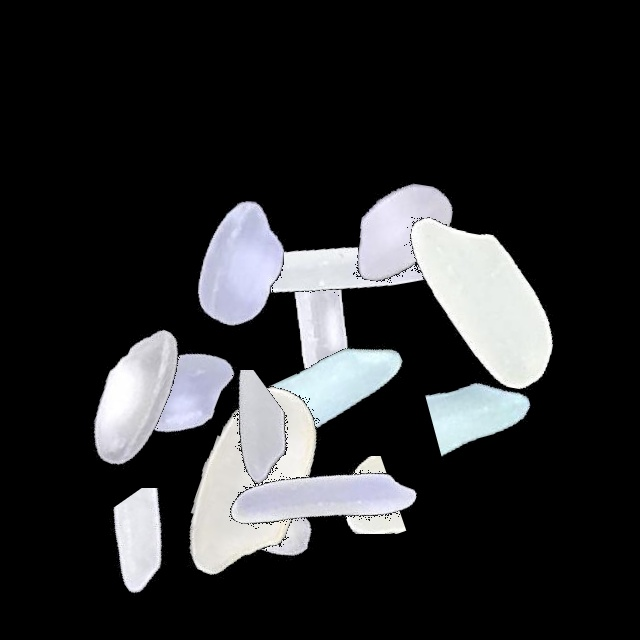Broken: (40, 488, 290, 639), (91, 370, 341, 514), (370, 349, 620, 476), (228, 456, 478, 534)
Full: (195, 206, 445, 456), (53, 264, 303, 514), (199, 144, 449, 394), (192, 272, 442, 522), (280, 107, 530, 357), (129, 386, 379, 636), (117, 139, 367, 389), (8, 268, 258, 518), (126, 357, 376, 607), (198, 375, 448, 625), (355, 178, 605, 428)
